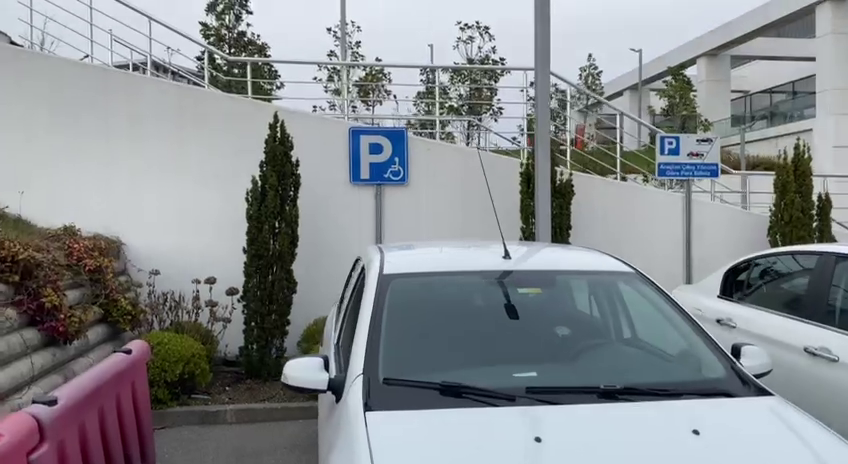parking: (347, 126, 410, 186), (657, 134, 682, 158)
